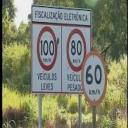speed_limit_100: (37, 24, 58, 72)
speed_limit_60: (81, 48, 108, 107)
speed_limit_80: (65, 27, 87, 74)
